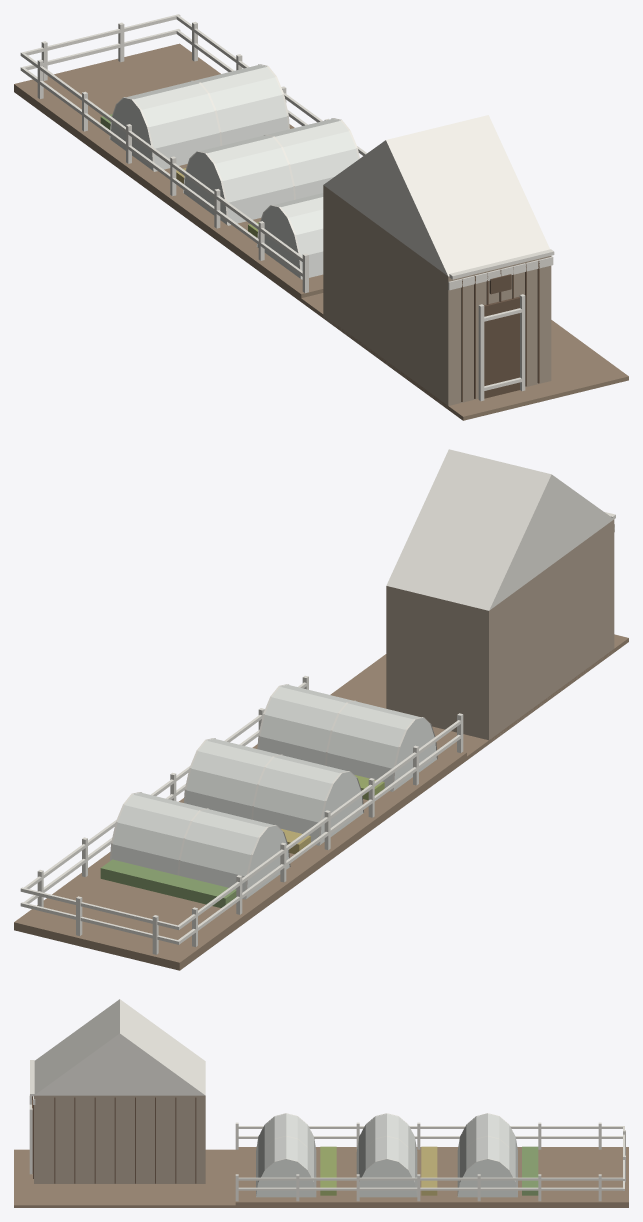
File: farm_1x4.glb
The picture shows the model from 3 angles, top to bottom: view 1: azimuth 30°, elevation 25°; view 2: azimuth 150°, elevation 25°; view 3: azimuth 270°, elevation 25°; orthographic projection. The views are drawn at different scales.
Parts seen in each view (by area): view 1: farm_1x4_yard; view 2: farm_1x4_yard; view 3: farm_1x4_yard.
Part boxes in pixels (bbox=[...]): farm_1x4_yard: bbox=[14, 14, 628, 420]; farm_1x4_yard: bbox=[14, 449, 628, 970]; farm_1x4_yard: bbox=[14, 999, 628, 1207].
Size of the model in its own units: 6.5 by 8.4 by 30.5.
